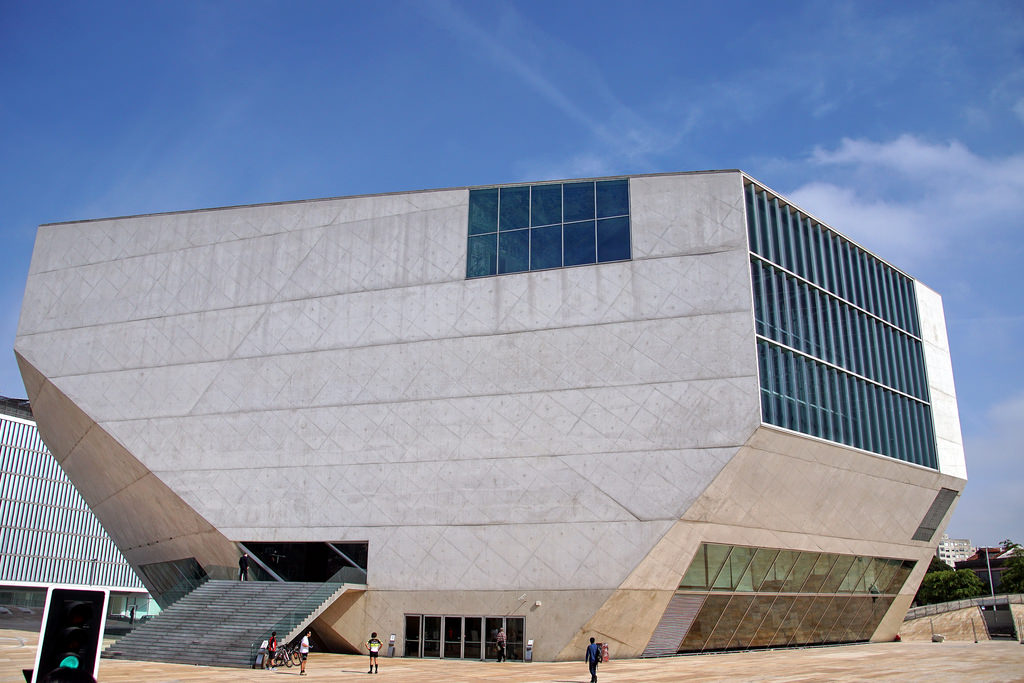musica: (12, 168, 973, 664)
